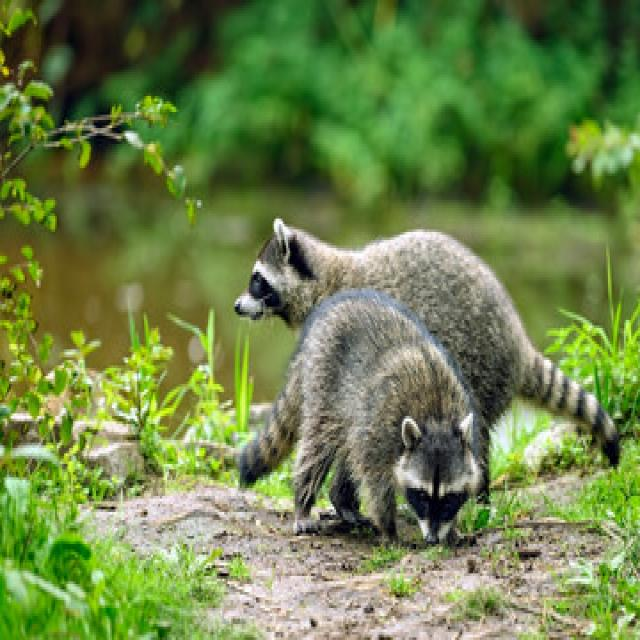badger: (230, 214, 627, 469), (236, 295, 476, 544)
